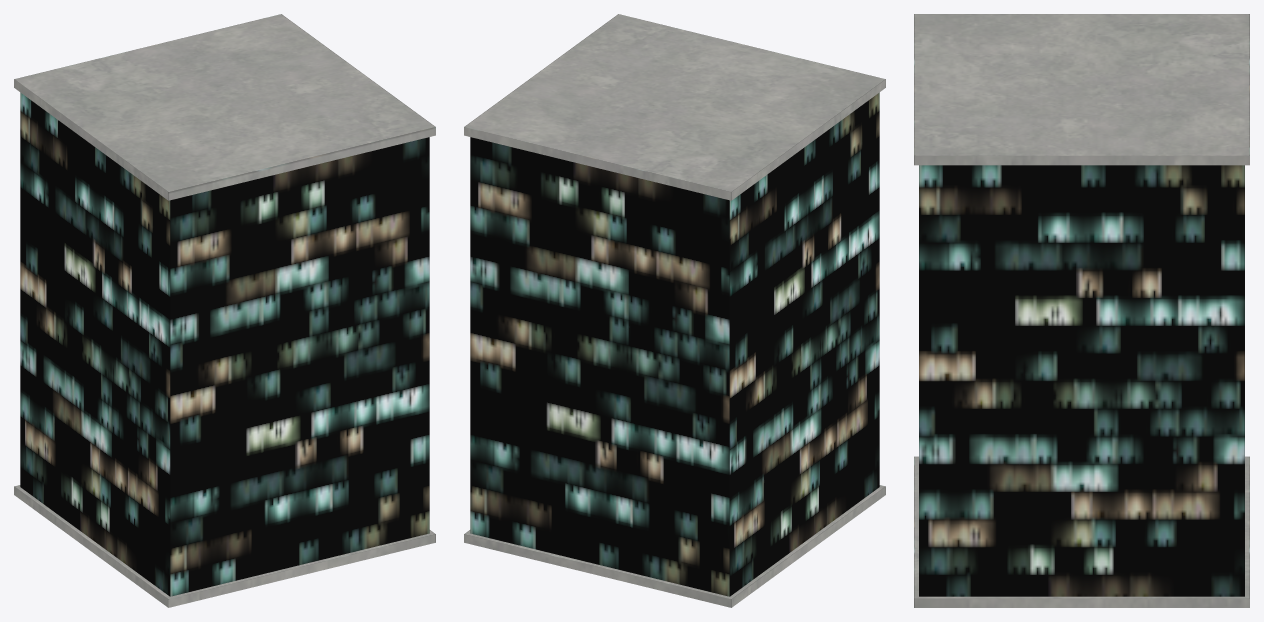
The model's file is building_02.2.glb.
3 views of the same model, side by side, from view 1: azimuth 30°, elevation 25°; view 2: azimuth 150°, elevation 25°; view 3: azimuth 270°, elevation 25° (orthographic). The views are drawn at different scales.
Visible parts, largest first — view 1: building_02.2; view 2: building_02.2; view 3: building_02.2.
Boxes of the visible parts, box(x1,y1,x2,y2) form: building_02.2: box(14, 14, 435, 607); building_02.2: box(464, 14, 885, 607); building_02.2: box(914, 14, 1249, 607).
Bounding box in the file's own units: 33 × 49 × 33.
1 material, 1 textured.
